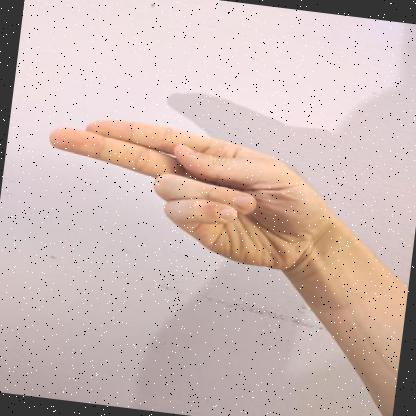H: (49, 119, 338, 279)
